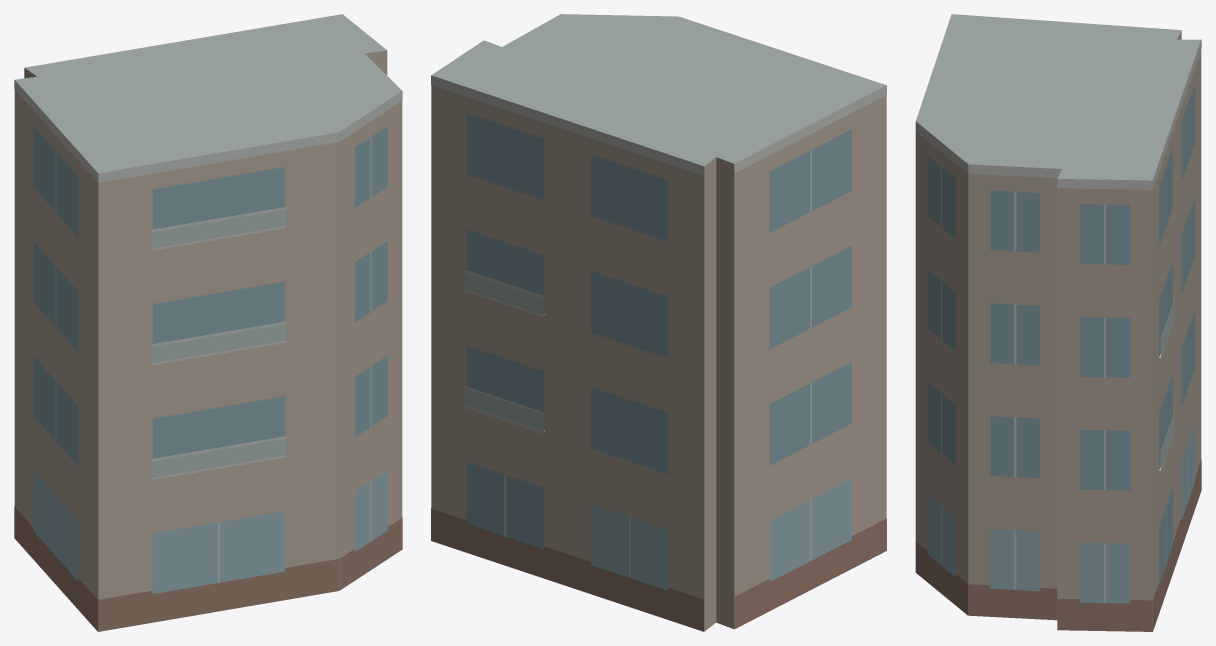
File: survey-upis-32462106.glb
3 renders of one model, left to right at view 1: azimuth 30°, elevation 25°; view 2: azimuth 150°, elevation 25°; view 3: azimuth 270°, elevation 25°, orthographic. The views are drawn at different scales.
Visible parts, largest first — view 1: survey-upis-32462106.tmp; view 2: survey-upis-32462106.tmp; view 3: survey-upis-32462106.tmp.
Part boxes in pixels (<box>): survey-upis-32462106.tmp: <box>14,14,402,631</box>; survey-upis-32462106.tmp: <box>431,14,886,631</box>; survey-upis-32462106.tmp: <box>915,14,1201,631</box>.
Size of the model in its own units: 9.27 by 11.7 by 6.72.
